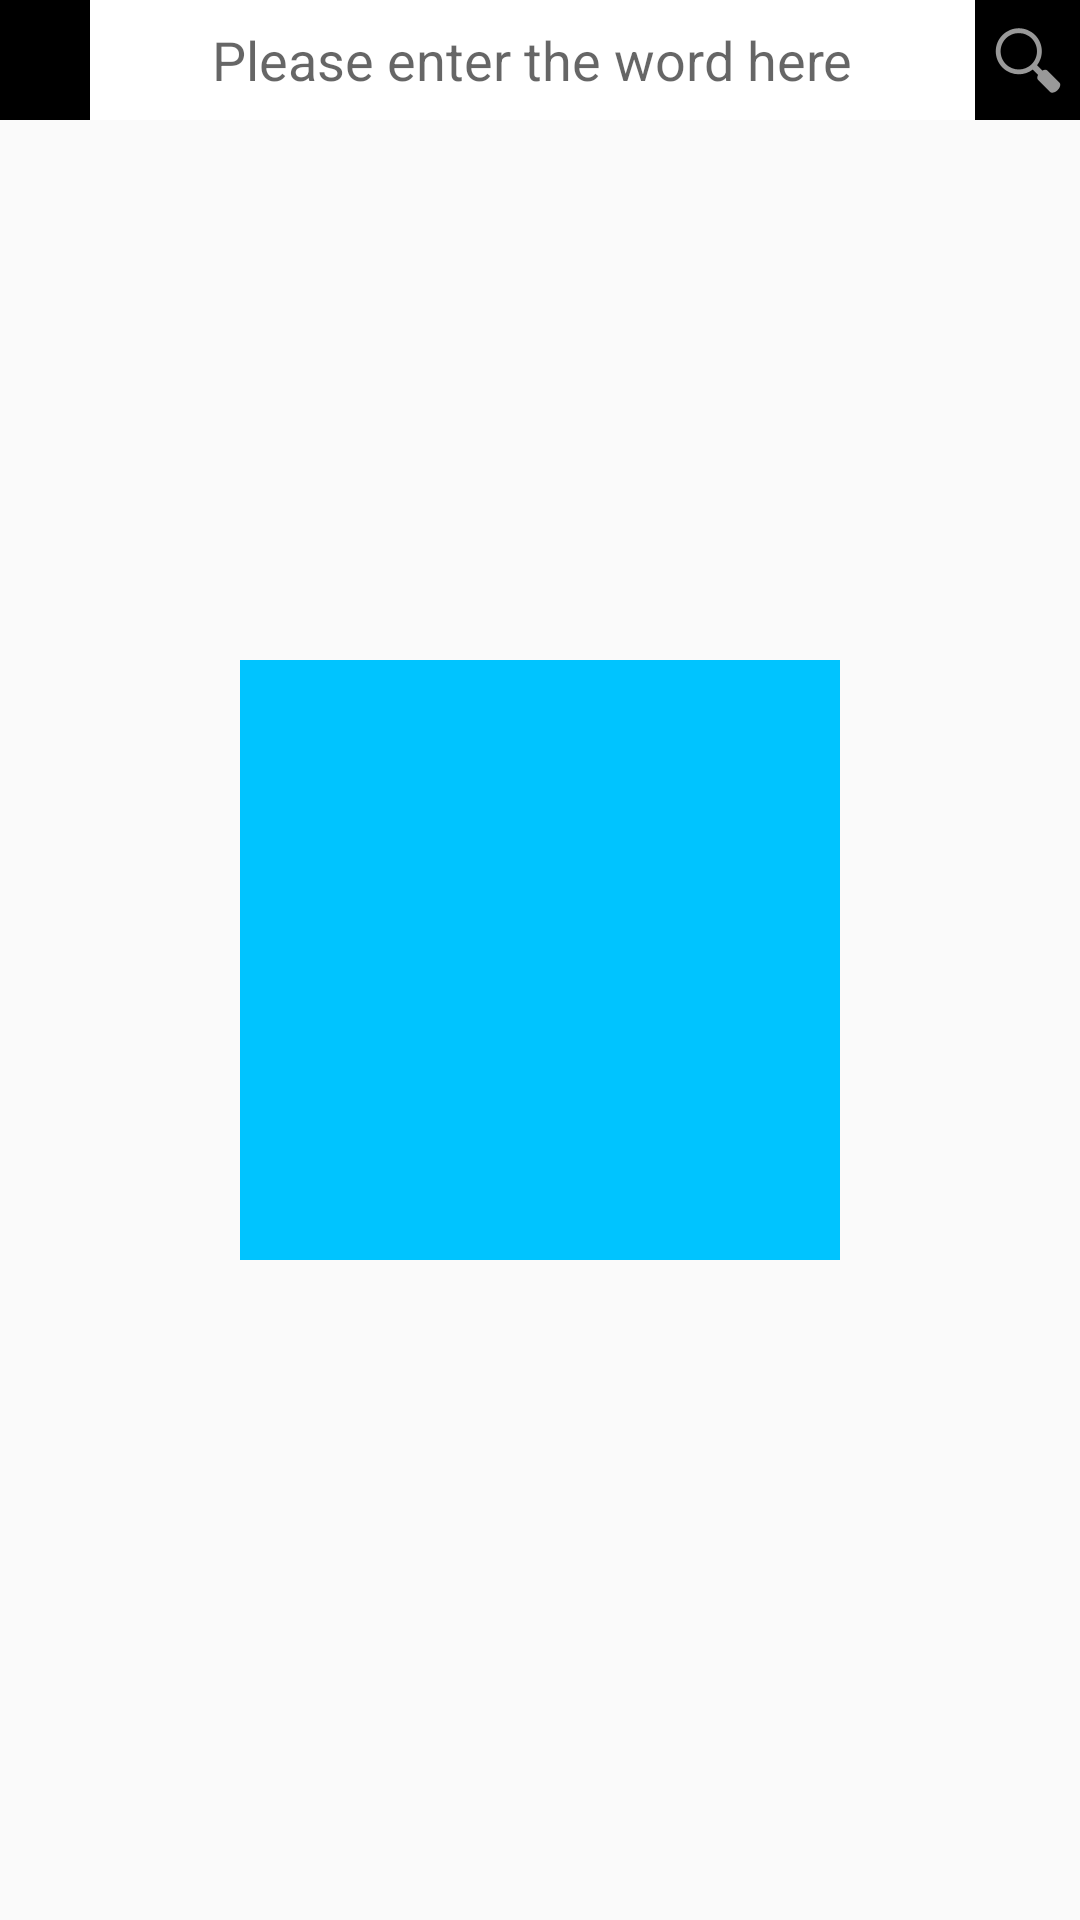

Icons on this 1080px×1920px Android screen, each with the point to tap as point (x, y):
search: point (1027, 60)
